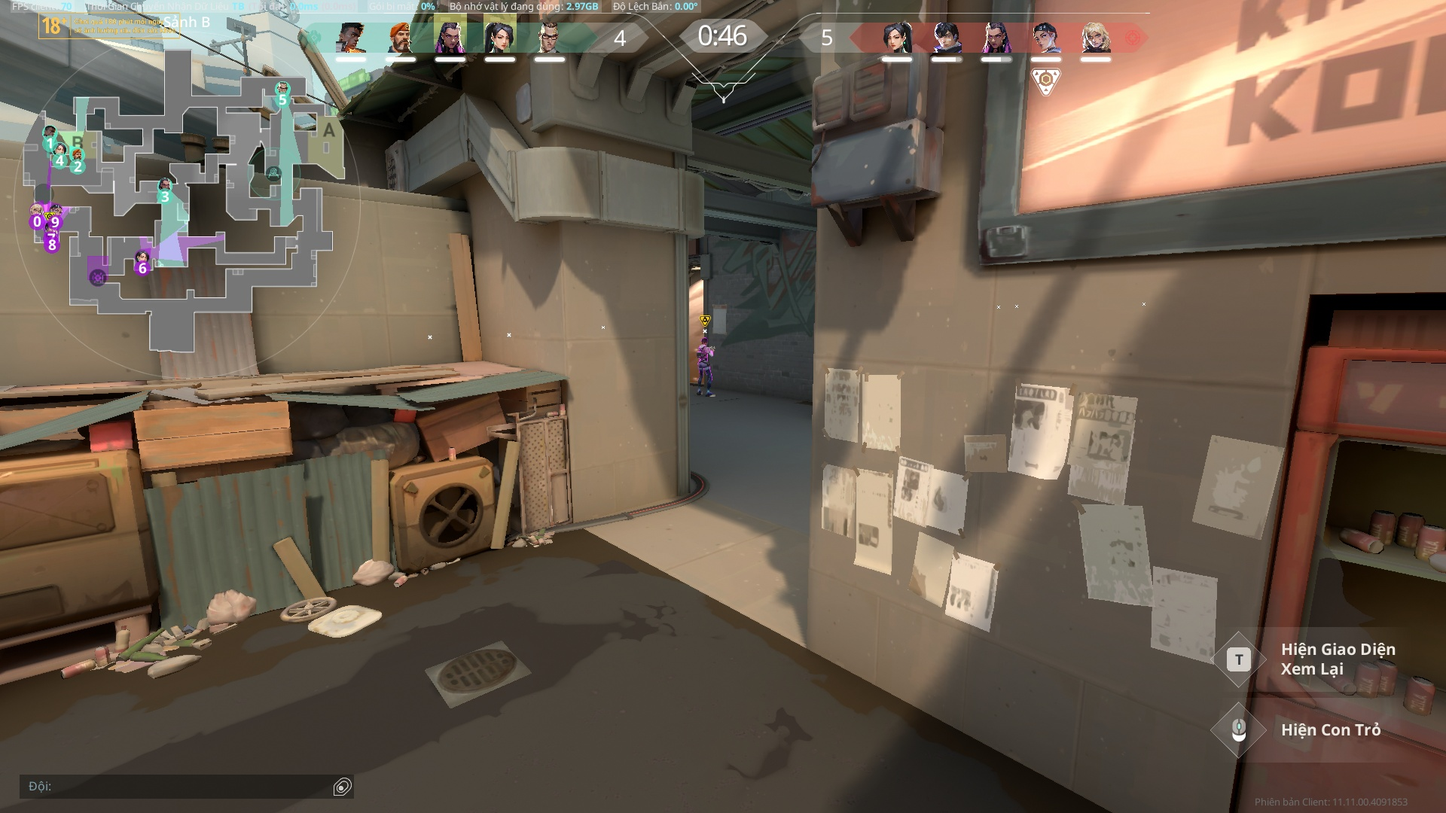body: (697, 346, 710, 363)
head: (700, 336, 708, 345)
